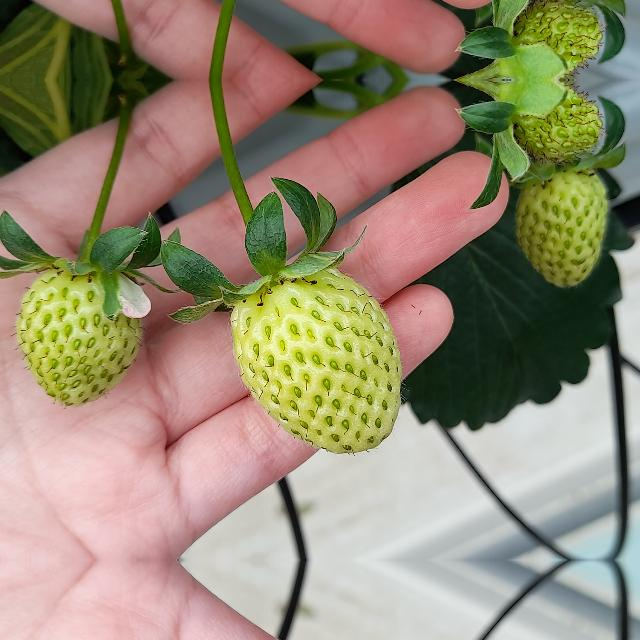Health_25: (229, 268, 401, 454), (14, 261, 148, 407), (508, 168, 612, 290), (508, 86, 606, 162), (508, 0, 605, 74)
